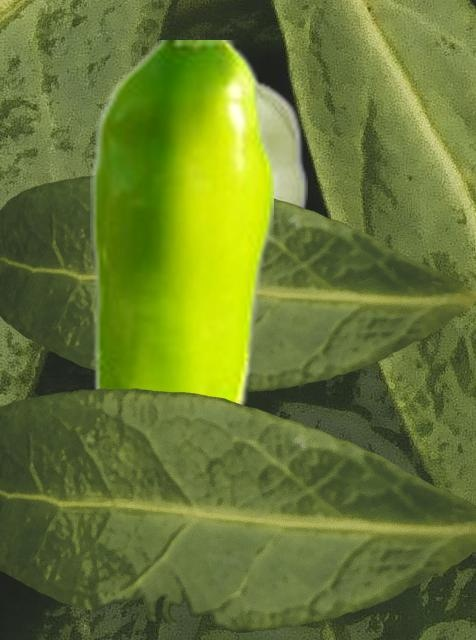green_chili: (85, 76, 306, 386), (90, 40, 272, 406)
